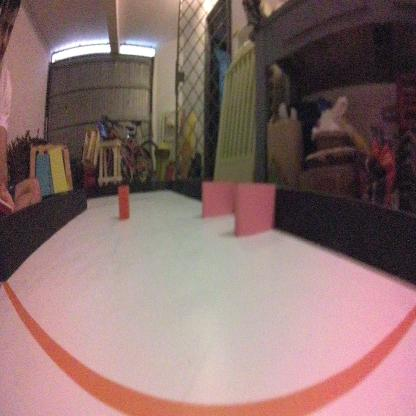magenta: (234, 184, 274, 238), (200, 181, 235, 220)
red: (116, 182, 130, 217)
